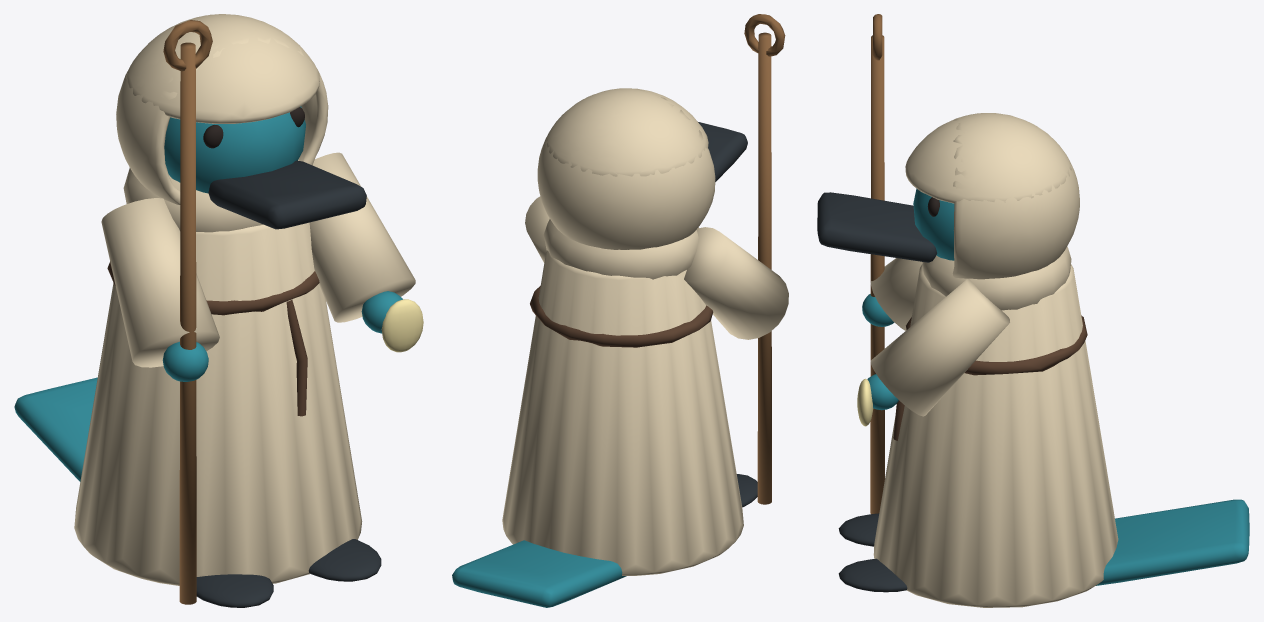
The model's file is Pilgrim.fbx.
3 views of the same model, side by side, from view 1: azimuth 30°, elevation 25°; view 2: azimuth 150°, elevation 25°; view 3: azimuth 270°, elevation 25° (orthographic). The views are drawn at different scales.
Parts seen in each view (by area): view 1: Pilgrim; view 2: Pilgrim; view 3: Pilgrim.
Part boxes in pixels (<box>): Pilgrim: <box>14,14,423,607</box>; Pilgrim: <box>452,14,788,607</box>; Pilgrim: <box>817,14,1249,607</box>.
Bounding box in the file's own units: 0.6683 × 1.37 × 1.05.
